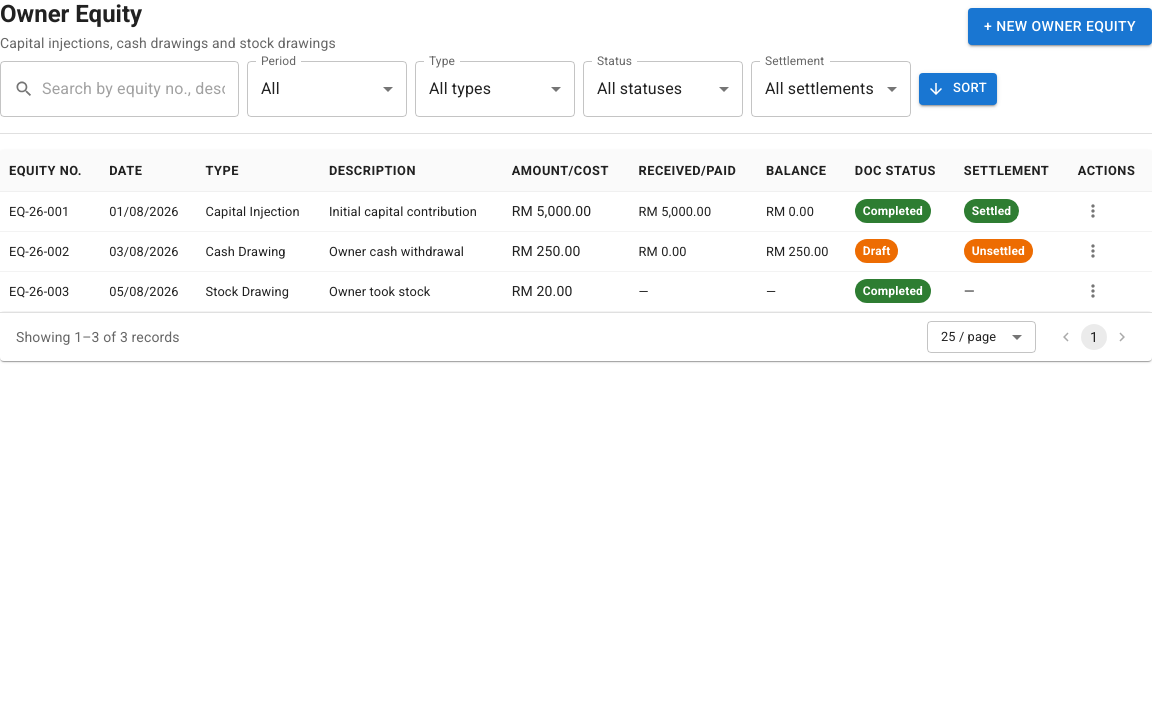
OwnerEquityPage › list-origin Uncomplete › uncompletes the document and closes the dialog on confirm
Click the button named "row actions" in the row of "EQ-26-003" at (1093, 291), box [1078, 276, 1108, 306]
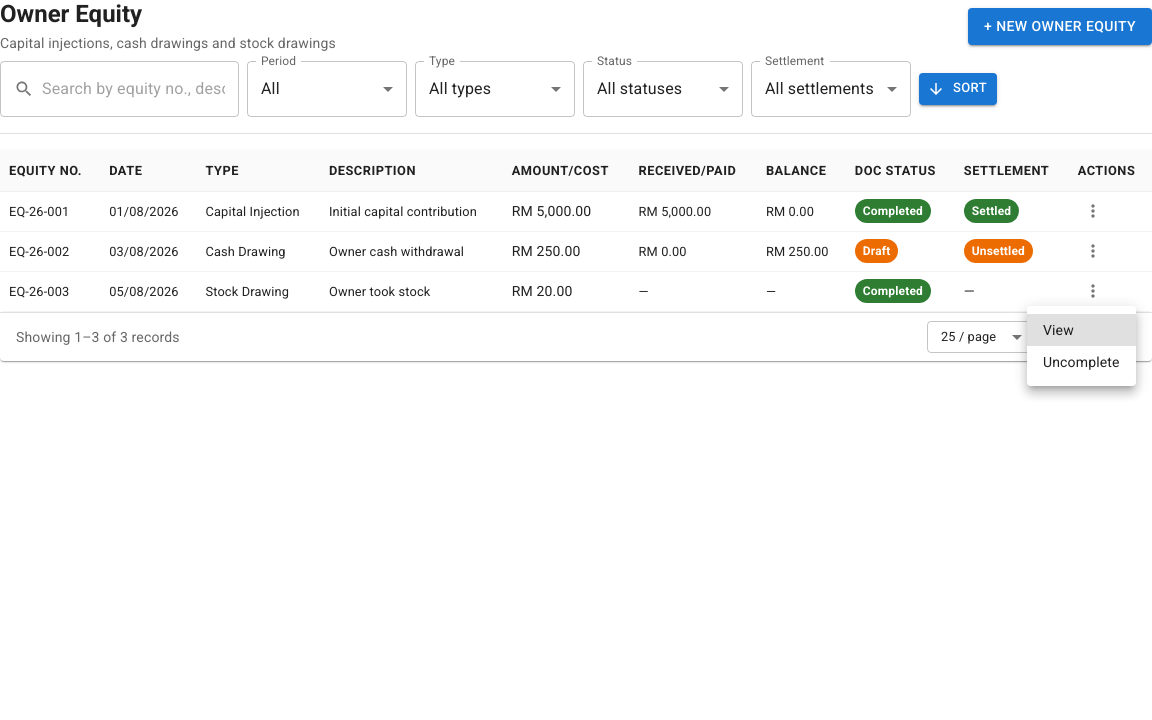
Click the menu item "Uncomplete" at (1081, 362), box [1043, 354, 1120, 370]
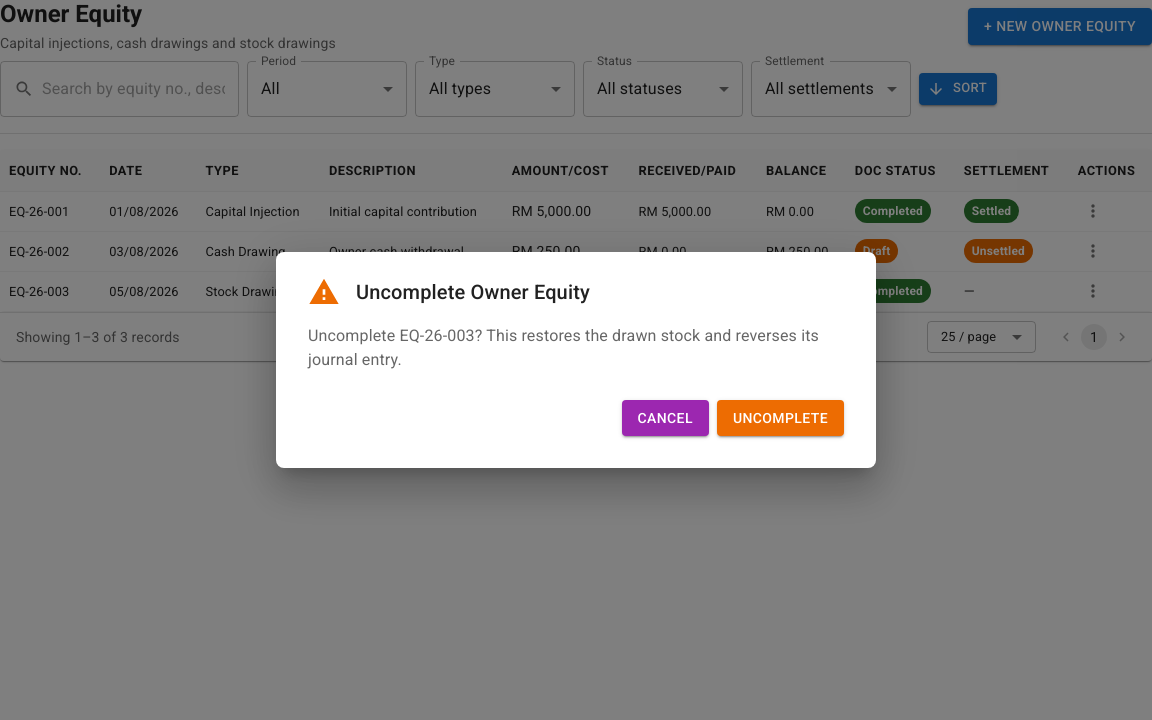
Click the button "Uncomplete" at (780, 418), box [717, 400, 844, 436]
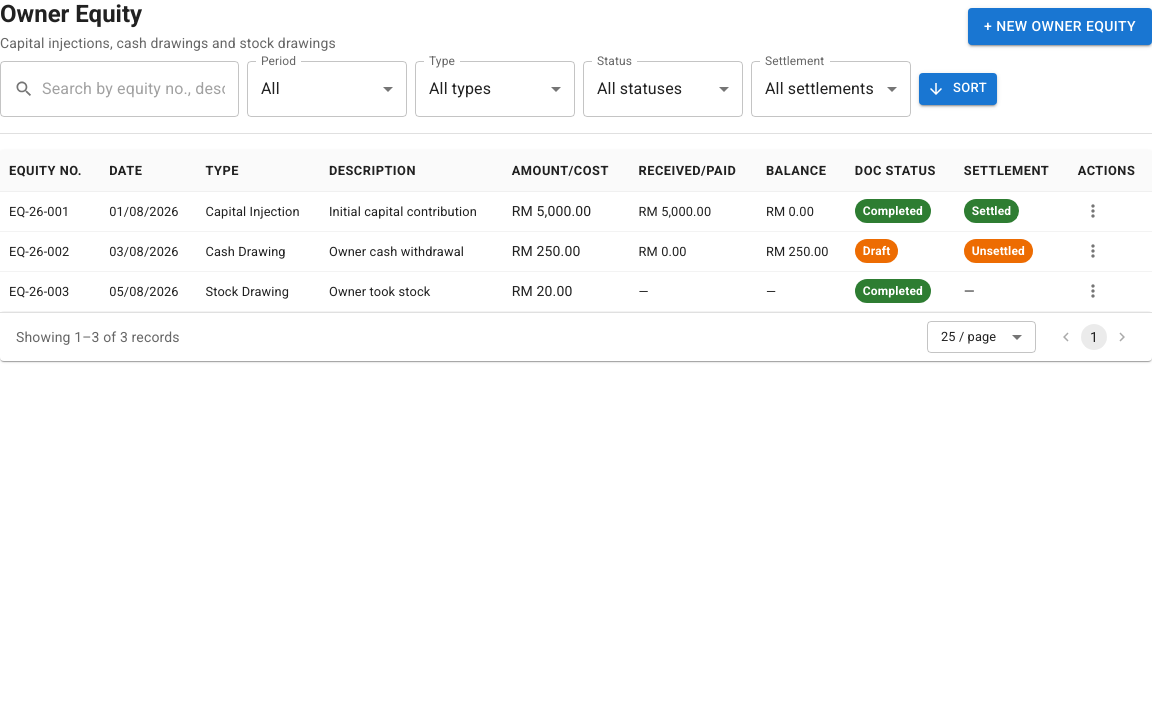
Check: the dialog is gone
